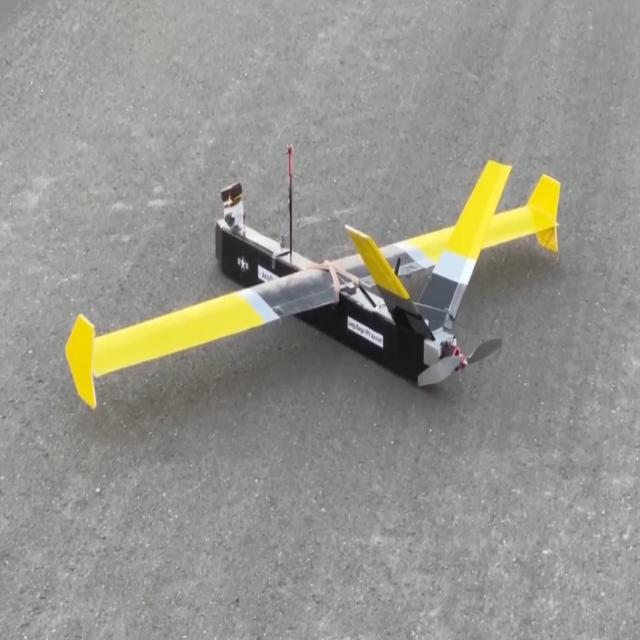iha: (49, 109, 557, 403)
